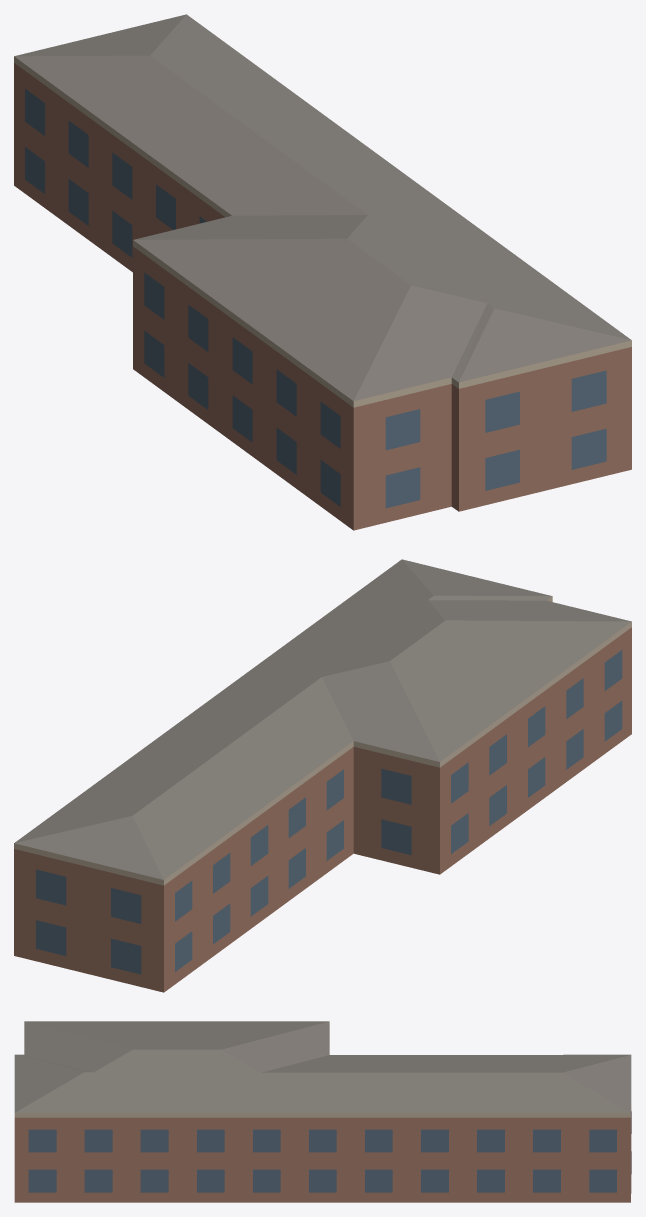
Rendered from dc-au-osborn-building.glb.
The picture shows the model from 3 angles, top to bottom: view 1: azimuth 30°, elevation 25°; view 2: azimuth 150°, elevation 25°; view 3: azimuth 270°, elevation 25°; orthographic projection. The views are drawn at different scales.
Visible parts, largest first — view 1: Osborn Building; view 2: Osborn Building; view 3: Osborn Building.
Part boxes in pixels (left/top/right/bottom): Osborn Building: left=14, top=14, right=631, bottom=530; Osborn Building: left=14, top=559, right=631, bottom=992; Osborn Building: left=14, top=1021, right=631, bottom=1202.
Bounding box in the file's own units: 14.13 × 7.66 × 40.05.
